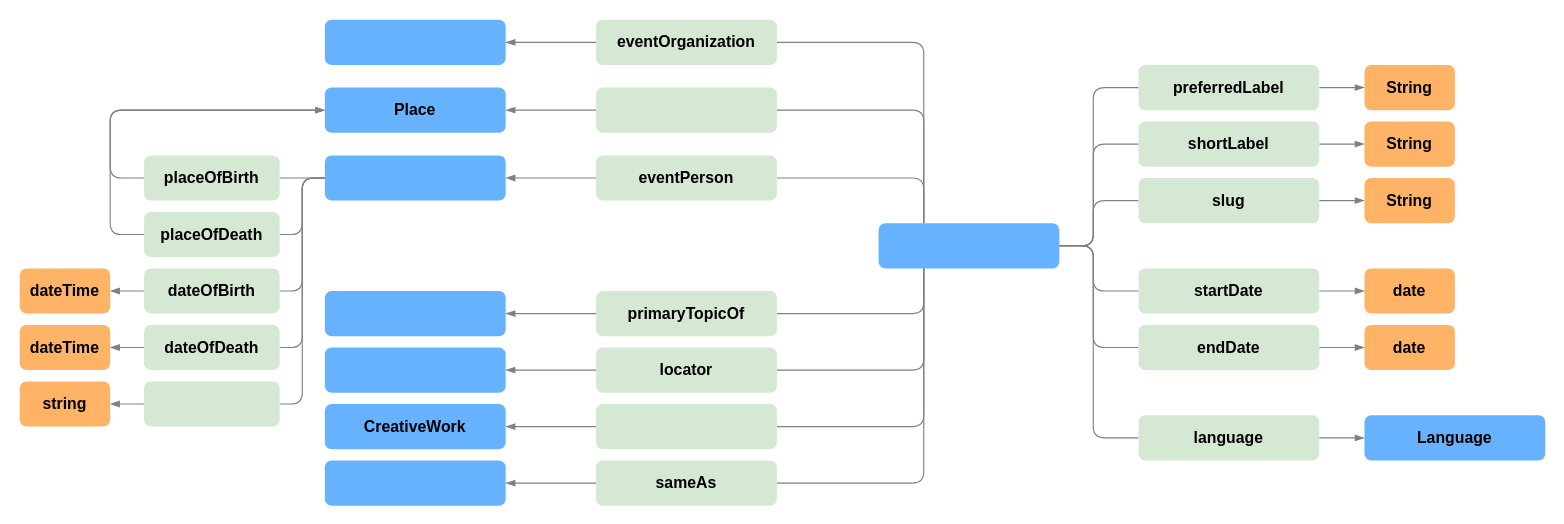
Image size: 1564x524. Some labels were removed from this diagram. Here are the shapes that lost their labels. From the top down, the centre of each, then its label:
[414,41]: Organization
[686,109]: eventPlace
[414,177]: Person
[968,245]: Event
[414,313]: WebDocument
[414,369]: CMS
[211,403]: knownFor
[686,426]: tag
[414,482]: OWL:Thing
